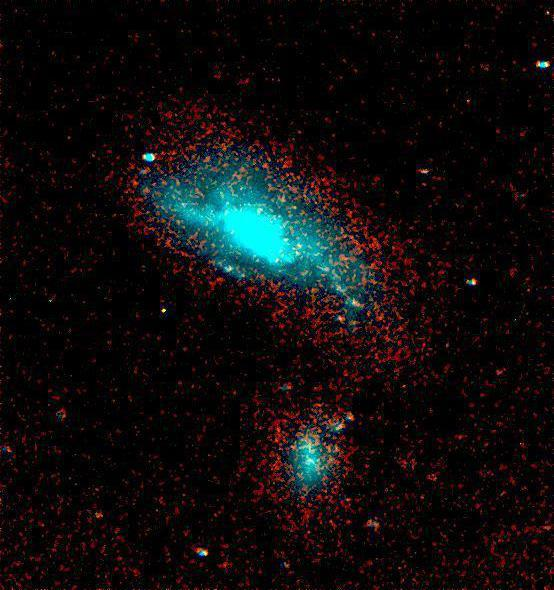star: (274, 188, 304, 218)
